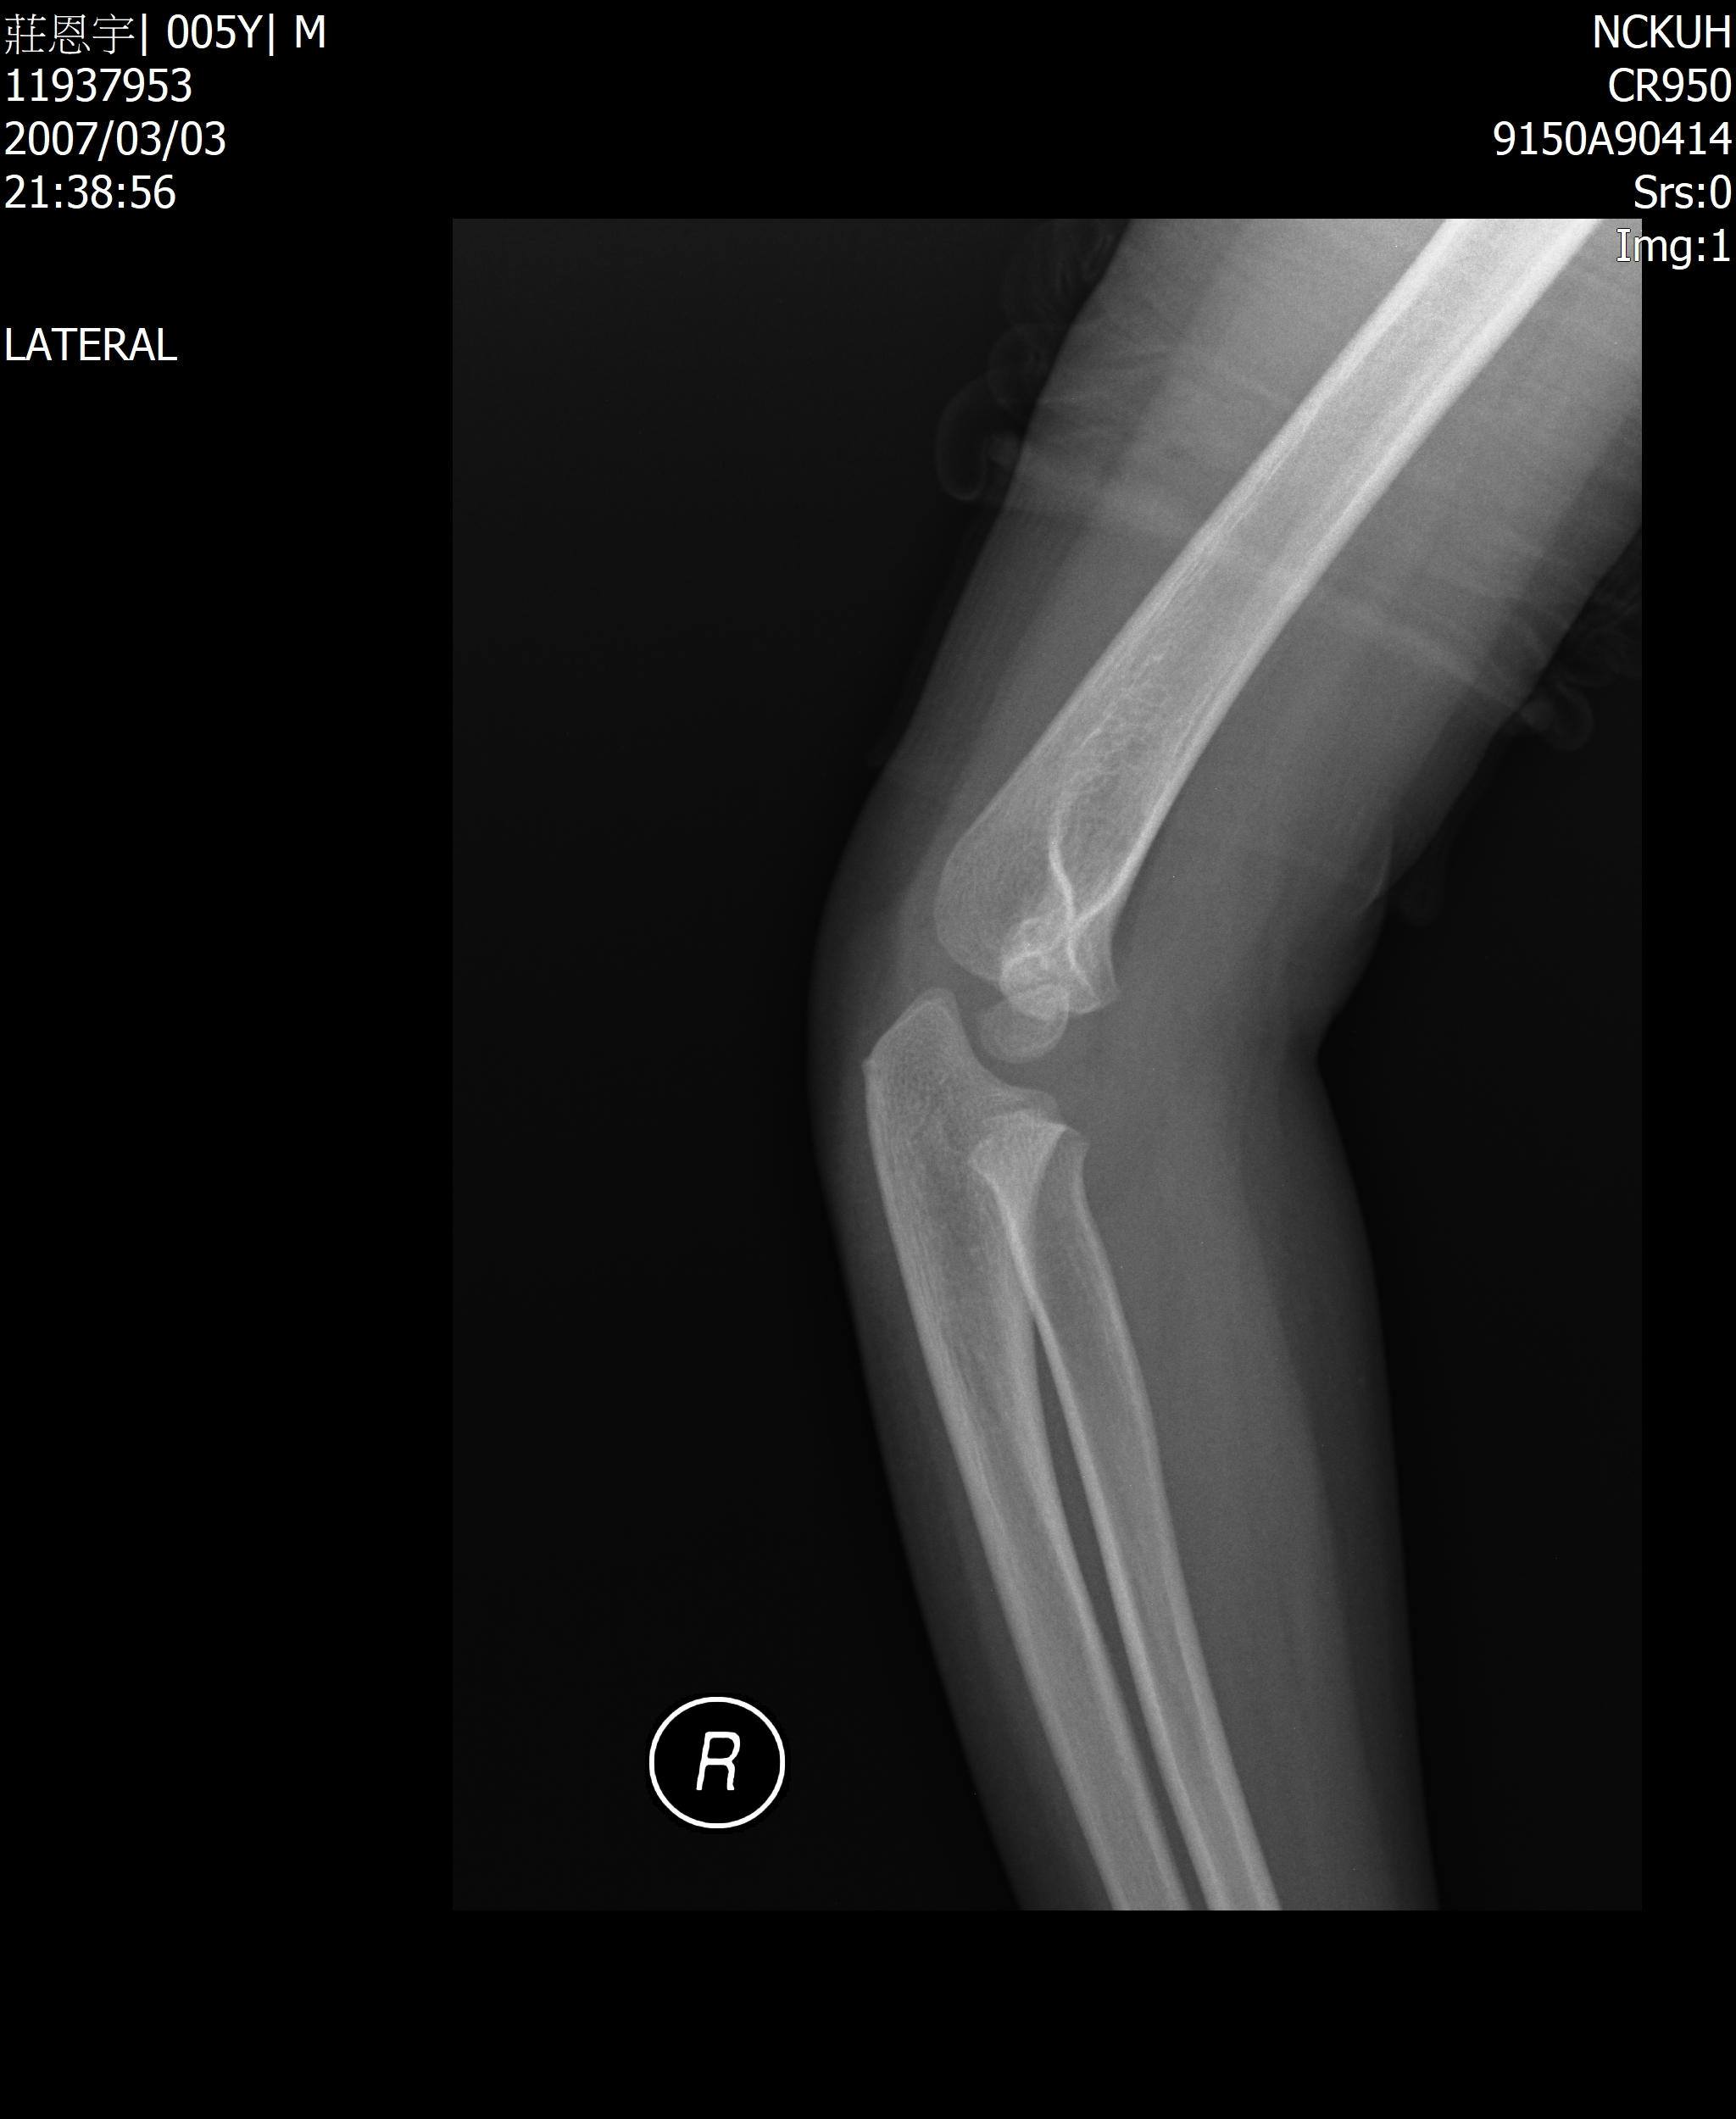Normal: (627, 648, 1266, 1359)
